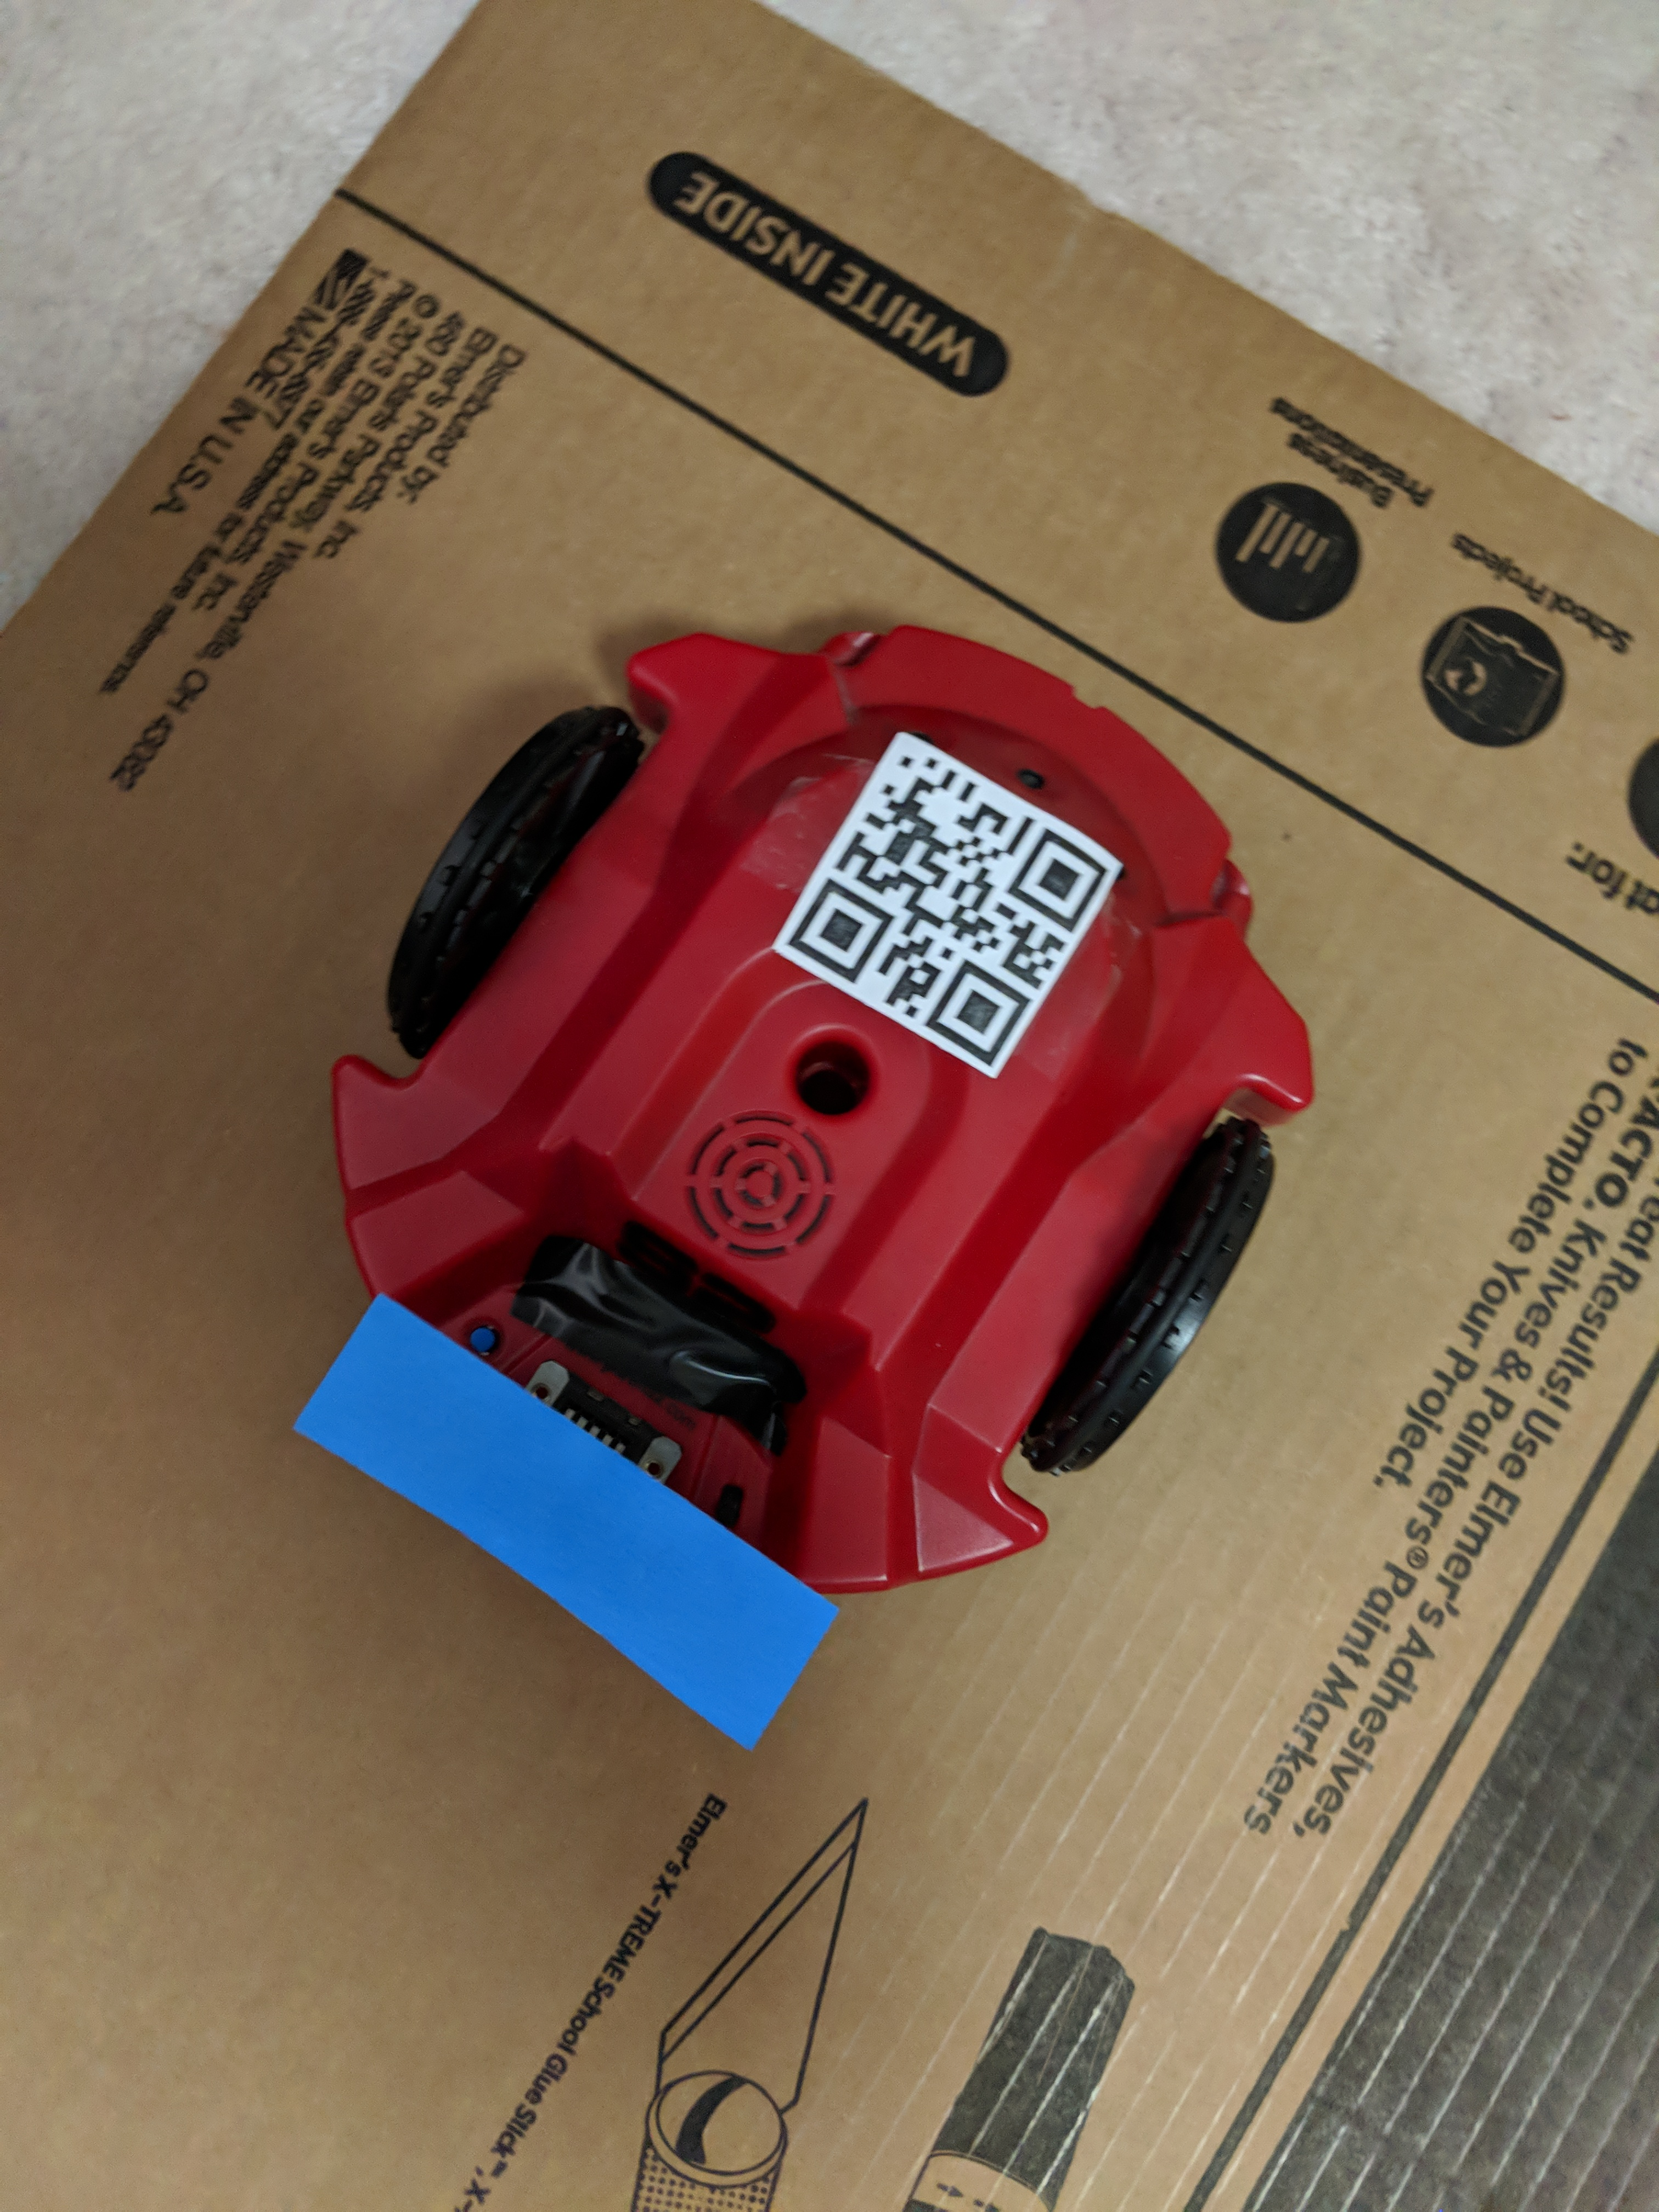chassis: (298, 563, 1358, 1719)
qr: (748, 718, 1136, 1094)
